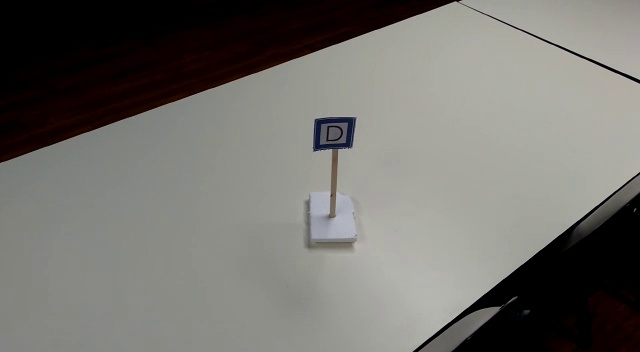durak: (313, 116, 354, 151)
